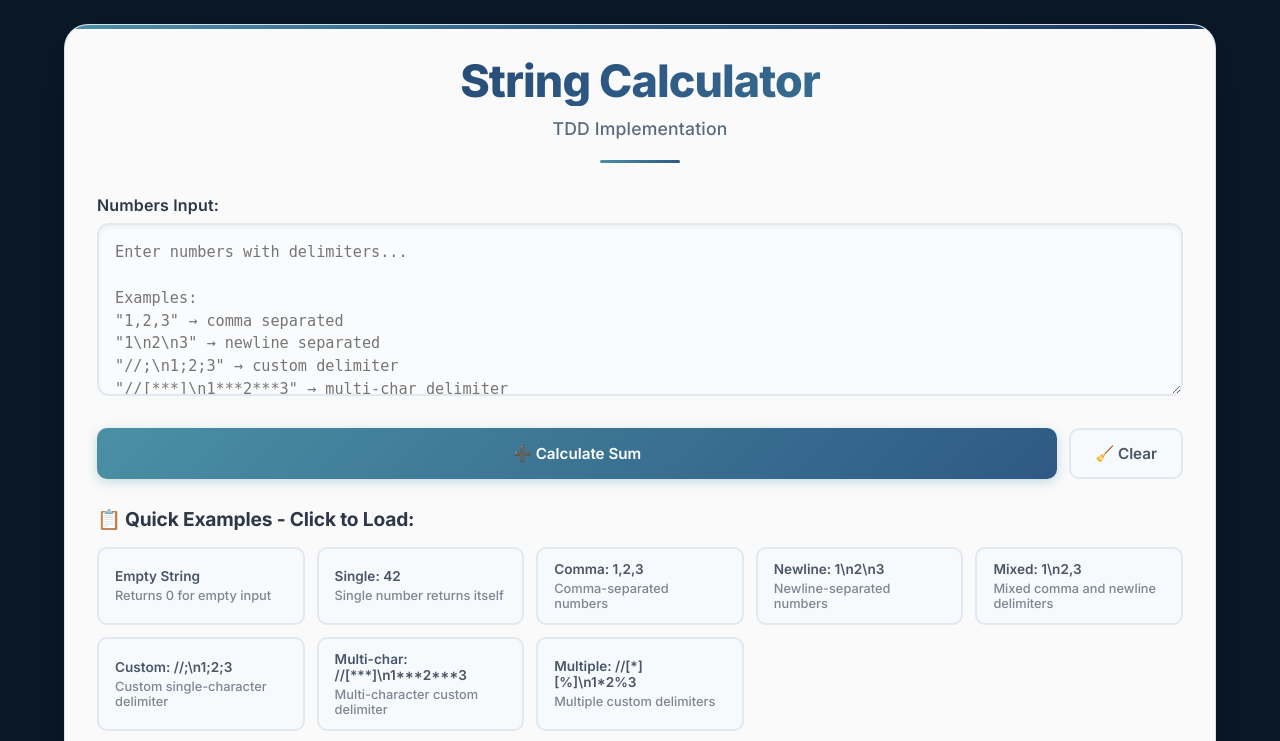
Scenario: StringCalculator Frontend › handles API errors gracefully
This screenshot has width=1280, height=741.
Click the button "➕ Calculate Sum": (577, 454) 97,428 -> 1057,479
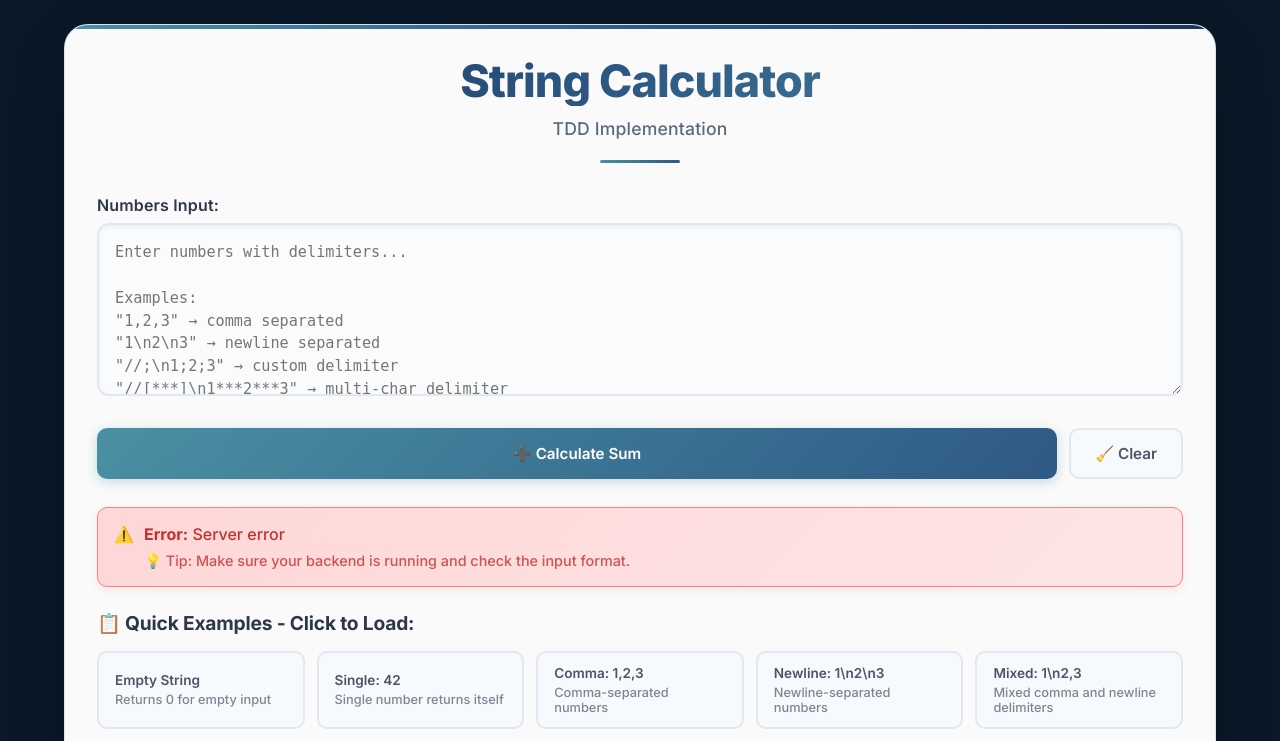
Now the text "Server error" is shown, box 192,524 -> 285,544
